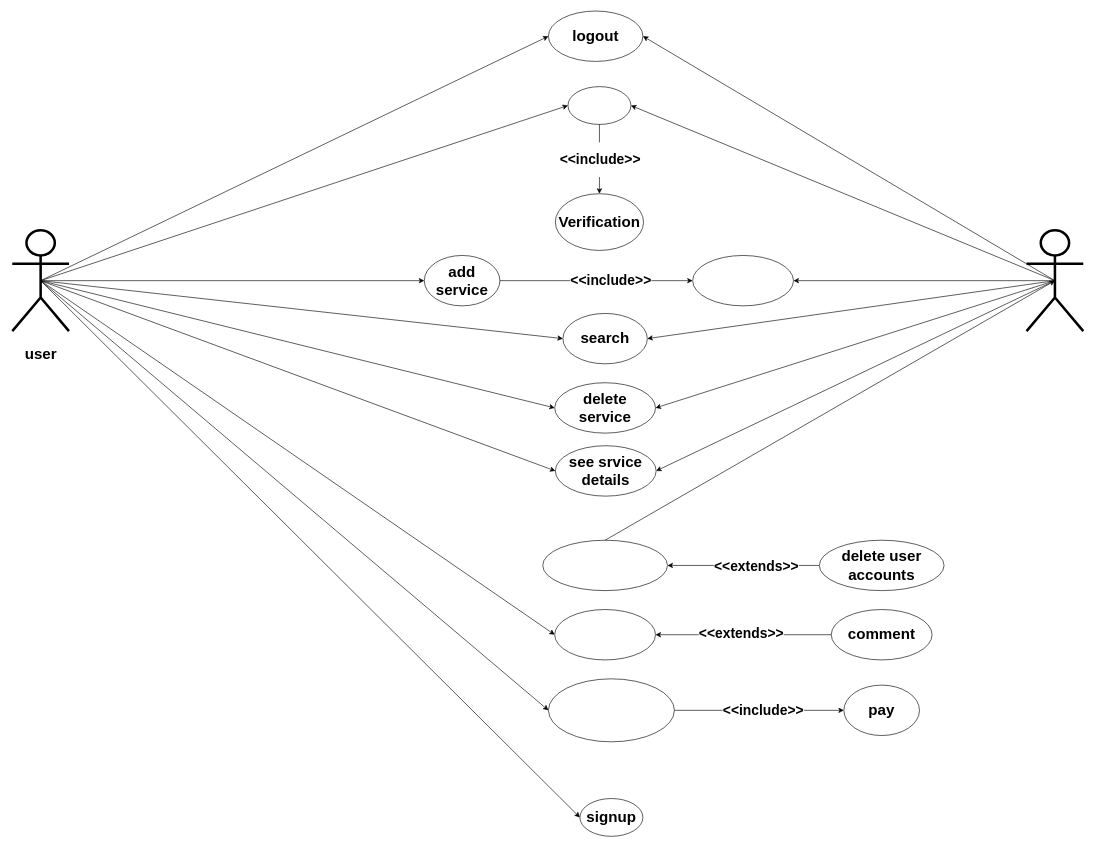
This 1095x847 diagram has some shape labels left out. The shapes that lost their labels are listed below. From the top down, each one's centre as x and y in pixels, then its label:
At (x=599, y=105): "login".
At (x=742, y=280): "admin approval".
At (x=1054, y=280): "admin".
At (x=604, y=565): "show all user accounts".
At (x=605, y=634): "review service".
At (x=611, y=710): "book appointment".
